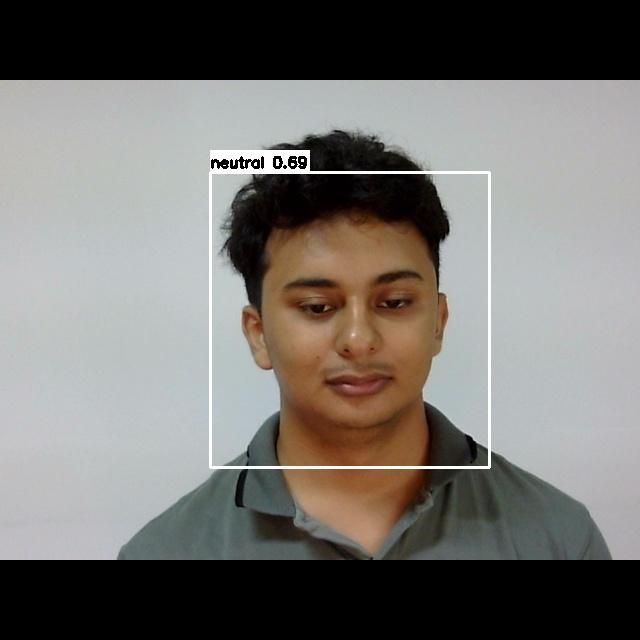Natural: (259, 243, 444, 407)
